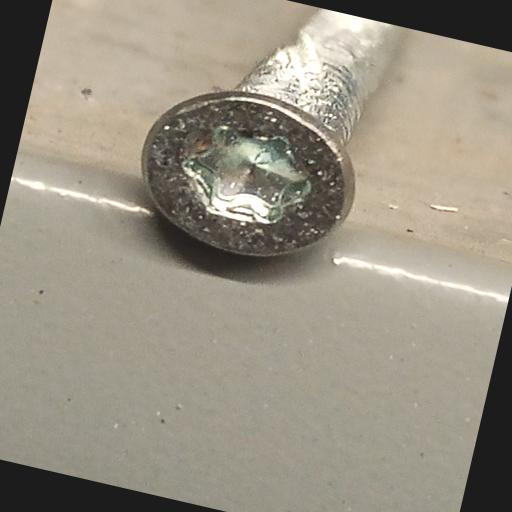Torx: (105, 56, 380, 308)
